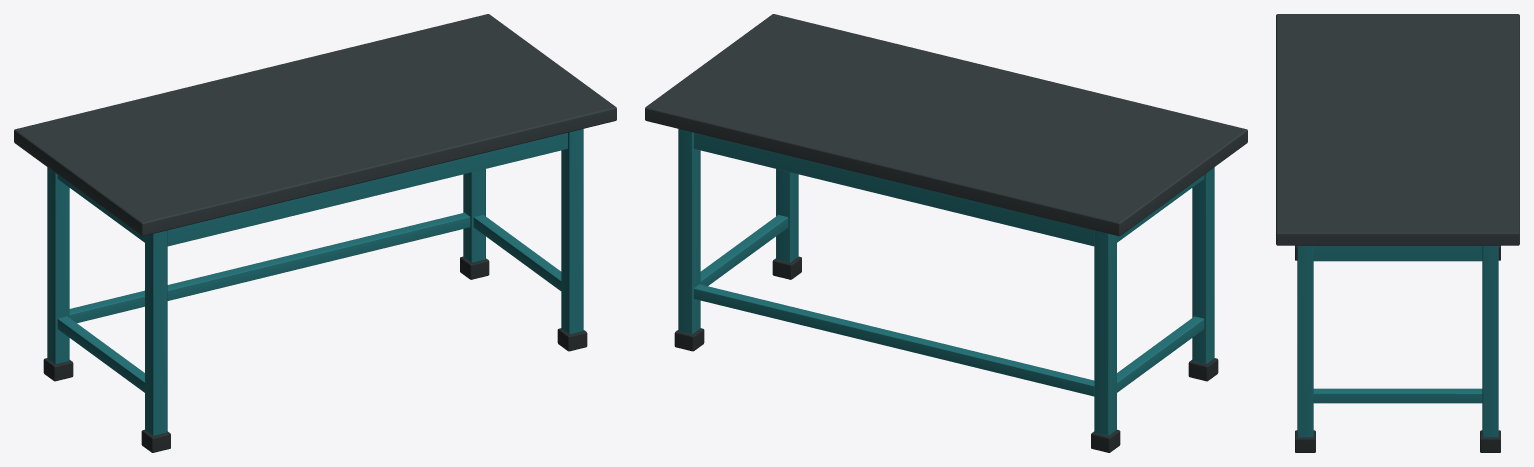
Rendered from VLAB_lab_bench.fbx.
3 renders of one model, left to right at view 1: azimuth 30°, elevation 25°; view 2: azimuth 150°, elevation 25°; view 3: azimuth 270°, elevation 25°, orthographic. The views are drawn at different scales.
Visible parts, largest first — view 1: VLAB_lab_bench_Top_VIS, VLAB_lab_bench_Frame_VIS, VLAB_lab_bench_Feet_VIS; view 2: VLAB_lab_bench_Top_VIS, VLAB_lab_bench_Frame_VIS, VLAB_lab_bench_Feet_VIS; view 3: VLAB_lab_bench_Top_VIS, VLAB_lab_bench_Frame_VIS, VLAB_lab_bench_Feet_VIS.
Part boxes in pixels (x1,y1,x2,y2): VLAB_lab_bench_Top_VIS: (14,14,616,236); VLAB_lab_bench_Frame_VIS: (47,129,583,435); VLAB_lab_bench_Feet_VIS: (43,256,587,452); VLAB_lab_bench_Top_VIS: (645,14,1247,236); VLAB_lab_bench_Frame_VIS: (678,129,1214,435); VLAB_lab_bench_Feet_VIS: (674,256,1218,452); VLAB_lab_bench_Top_VIS: (1276,14,1519,245); VLAB_lab_bench_Frame_VIS: (1297,245,1498,437); VLAB_lab_bench_Feet_VIS: (1295,245,1500,452).
Bounding box in the file's own units: 1.6 × 0.78 × 0.75.
